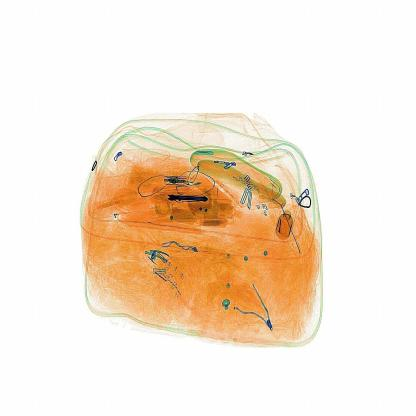knife: (160, 188, 214, 214)
